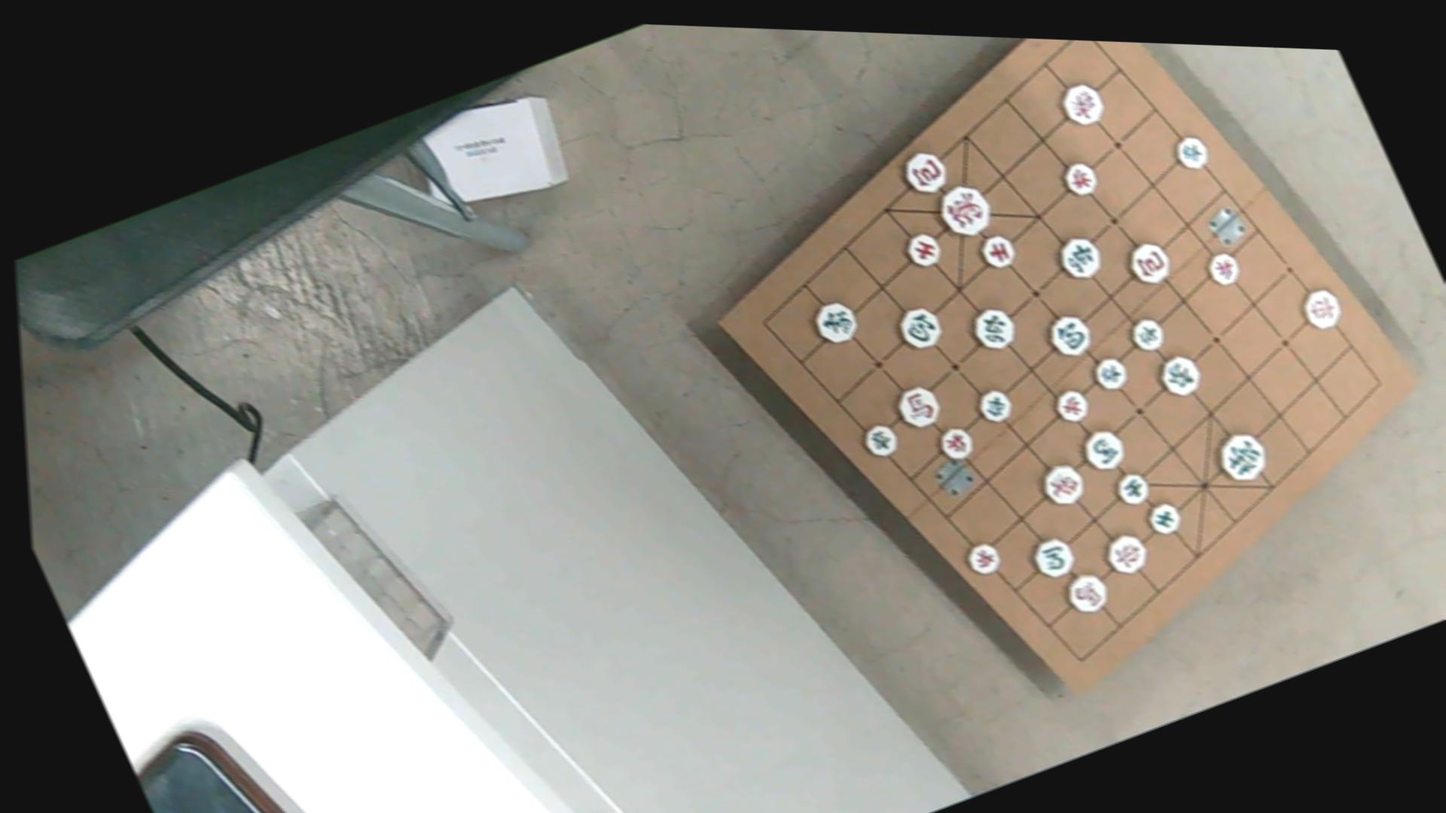cha_green: (966, 301, 1023, 355), (1054, 230, 1109, 284)
cha_red: (1099, 526, 1156, 578), (1292, 282, 1347, 334)
jol_green: (1170, 132, 1216, 175), (1124, 312, 1170, 355), (973, 384, 1017, 426), (859, 419, 903, 461), (1091, 353, 1133, 394)
jol_red: (1201, 246, 1248, 289), (934, 420, 979, 464), (962, 534, 1008, 577), (1050, 385, 1095, 428), (1059, 157, 1102, 199)
ma_green: (1026, 531, 1084, 586), (1076, 423, 1133, 477)
ma_red: (1057, 565, 1119, 621), (893, 380, 947, 432)
po_green: (1039, 307, 1098, 363), (893, 300, 947, 352)
po_red: (898, 143, 956, 199), (1123, 234, 1180, 290)
sa_green: (1110, 467, 1155, 510), (1145, 498, 1187, 539)
sa_red: (977, 232, 1021, 274), (903, 229, 947, 270)
sang_green: (808, 297, 864, 351), (1151, 349, 1207, 402)
sang_red: (1036, 458, 1092, 512), (1058, 78, 1112, 131)
wang_green: (1210, 423, 1277, 488)
wang_red: (931, 177, 997, 242)
